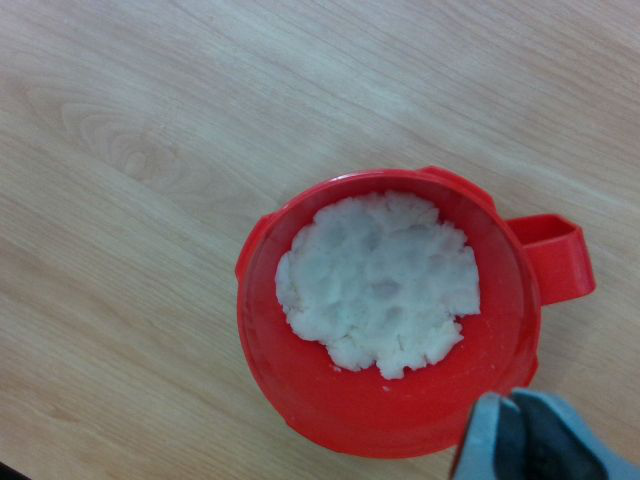mashed_potato: (276, 194, 480, 377)
